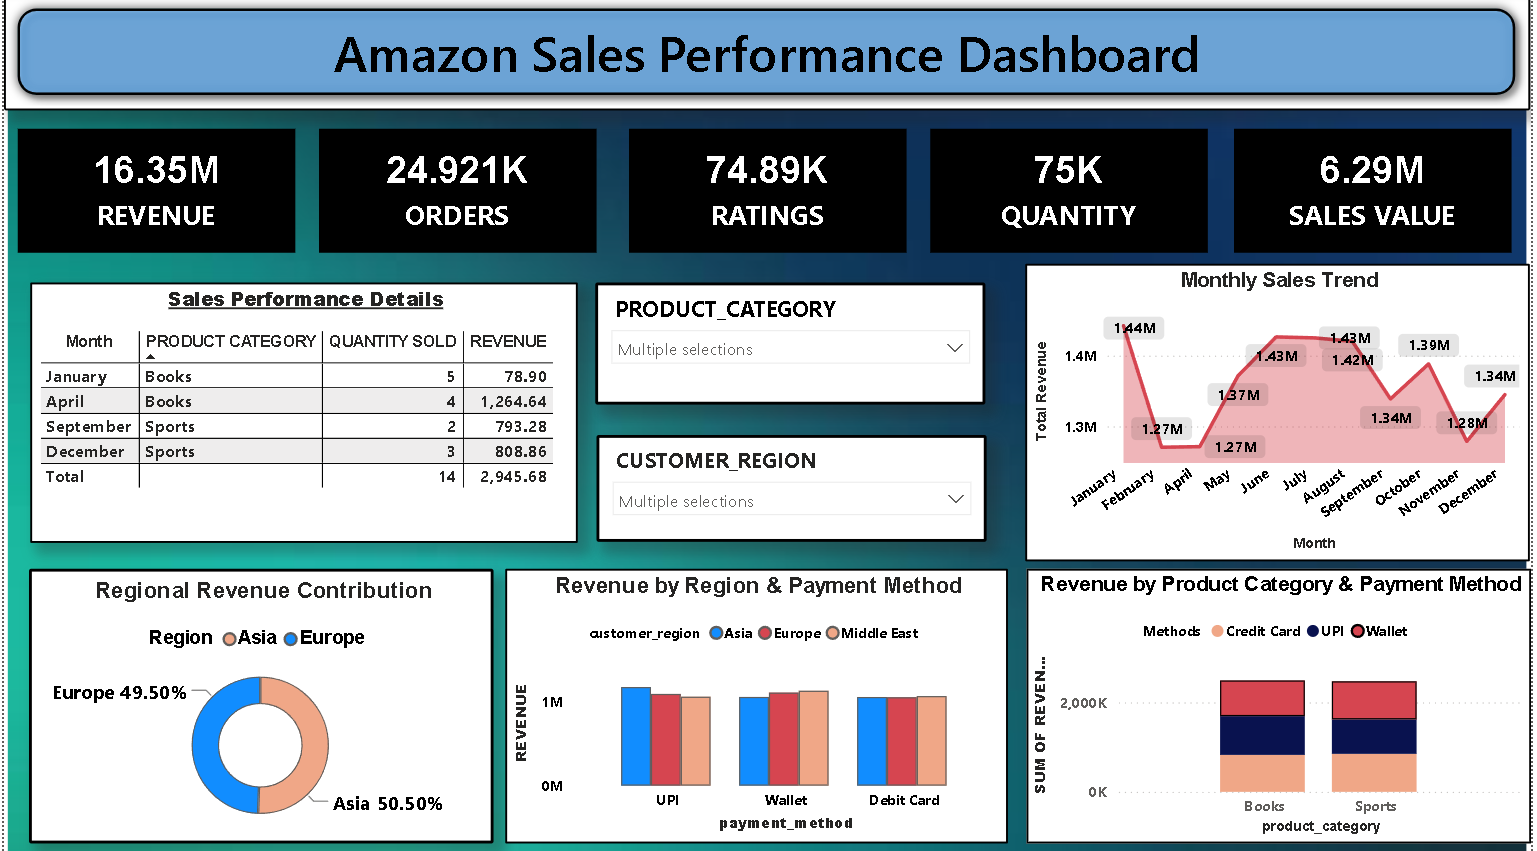

What the dashboard file says about the page in this screenshot:
{"tool":"powerbi","page":{"name":"Page 1","canvas":[1280,720],"ordinal":0},"visuals":[{"type":"image","box":[0,0,1280,720.2],"z":0},{"type":"shape","box":[0,0,1280,96.4],"z":1000},{"type":"cardVisual","fields":{"Data":["Sum(amazon_sales_dataset.total_revenue)"]},"box":[12,112.7,232.5,104.3],"z":2000},{"type":"cardVisual","fields":{"Data":["CountNonNull(amazon_sales_dataset.order_id)"]},"box":[263.7,112.7,232.5,104.3],"z":3000},{"type":"cardVisual","fields":{"Data":["Sum(amazon_sales_dataset.rating)"]},"box":[523.7,112.7,232.5,104.3],"z":4000},{"type":"cardVisual","fields":{"Data":["Sum(amazon_sales_dataset.quantity_sold)"]},"box":[776.6,112.7,232.5,104.3],"z":5000},{"type":"cardVisual","fields":{"Data":["Sum(amazon_sales_dataset.price)"]},"box":[1031.9,112.7,232.5,104.3],"z":6000},{"type":"donutChart","title":"Regional Revenue Contribution","fields":{"Category":["amazon_sales_dataset.customer_region"],"Y":["Sum(amazon_sales_dataset.total_revenue)"]},"box":[21.5,481.7,389.5,230.1],"z":7000},{"type":"columnChart","title":"Revenue by Product Category & Payment Method","fields":{"Y":["Sum(amazon_sales_dataset.total_revenue)"],"Category":["amazon_sales_dataset.product_category"],"Series":["amazon_sales_dataset.payment_method"]},"box":[857,481.7,423.1,230.1],"z":8000},{"type":"lineChart","title":"Monthly Sales Trend","fields":{"Y":["Sum(amazon_sales_dataset.total_revenue)"],"Category":["amazon_sales_dataset.order_date.Variation.Date Hierarchy.Month"]},"box":[856.9,225.3,423.1,249.3],"z":9000},{"type":"tableEx","title":"Sales Performance Details","fields":{"Values":["amazon_sales_dataset.order_date.Variation.Date Hierarchy.Month","amazon_sales_dataset.product_category","Sum(amazon_sales_dataset.quantity_sold)","Sum(amazon_sales_dataset.total_revenue)"]},"box":[21.6,240.9,459,218.1],"z":10000},{"type":"lineClusteredColumnComboChart","title":"Revenue by Region & Payment Method","fields":{"Category":["amazon_sales_dataset.payment_method"],"Y":["Sum(amazon_sales_dataset.total_revenue)"],"Series":["amazon_sales_dataset.customer_region"]},"box":[420.6,481.7,421.9,230.1],"z":11000},{"type":"slicer","fields":{"Values":["amazon_sales_dataset.customer_region"]},"box":[497.4,369.1,327.5,89.5],"z":12000},{"type":"slicer","fields":{"Values":["amazon_sales_dataset.product_category"]},"box":[496.2,240.9,327.5,102.4],"z":13000}]}

Visuals, with their boxes in screenshot pixels (x1, y1, x2, y2), scaled from the page's 1280x720 canvas onto the 1537x851 screenshot:
image: left=0, top=0, right=1536, bottom=850
shape: left=0, top=0, right=1536, bottom=114
cardVisual - Sum(amazon_sales_dataset.total_revenue): left=14, top=133, right=294, bottom=256
cardVisual - CountNonNull(amazon_sales_dataset.order_id): left=317, top=133, right=596, bottom=256
cardVisual - Sum(amazon_sales_dataset.rating): left=629, top=133, right=908, bottom=256
cardVisual - Sum(amazon_sales_dataset.quantity_sold): left=933, top=133, right=1212, bottom=256
cardVisual - Sum(amazon_sales_dataset.price): left=1239, top=133, right=1518, bottom=256
"Regional Revenue Contribution" donutChart: left=26, top=569, right=494, bottom=841
"Revenue by Product Category & Payment Method" columnChart: left=1029, top=569, right=1536, bottom=841
"Monthly Sales Trend" lineChart: left=1029, top=266, right=1536, bottom=561
"Sales Performance Details" tableEx: left=26, top=285, right=577, bottom=543
"Revenue by Region & Payment Method" lineClusteredColumnComboChart: left=505, top=569, right=1012, bottom=841
slicer - amazon_sales_dataset.customer_region: left=597, top=436, right=991, bottom=542
slicer - amazon_sales_dataset.product_category: left=596, top=285, right=989, bottom=406
